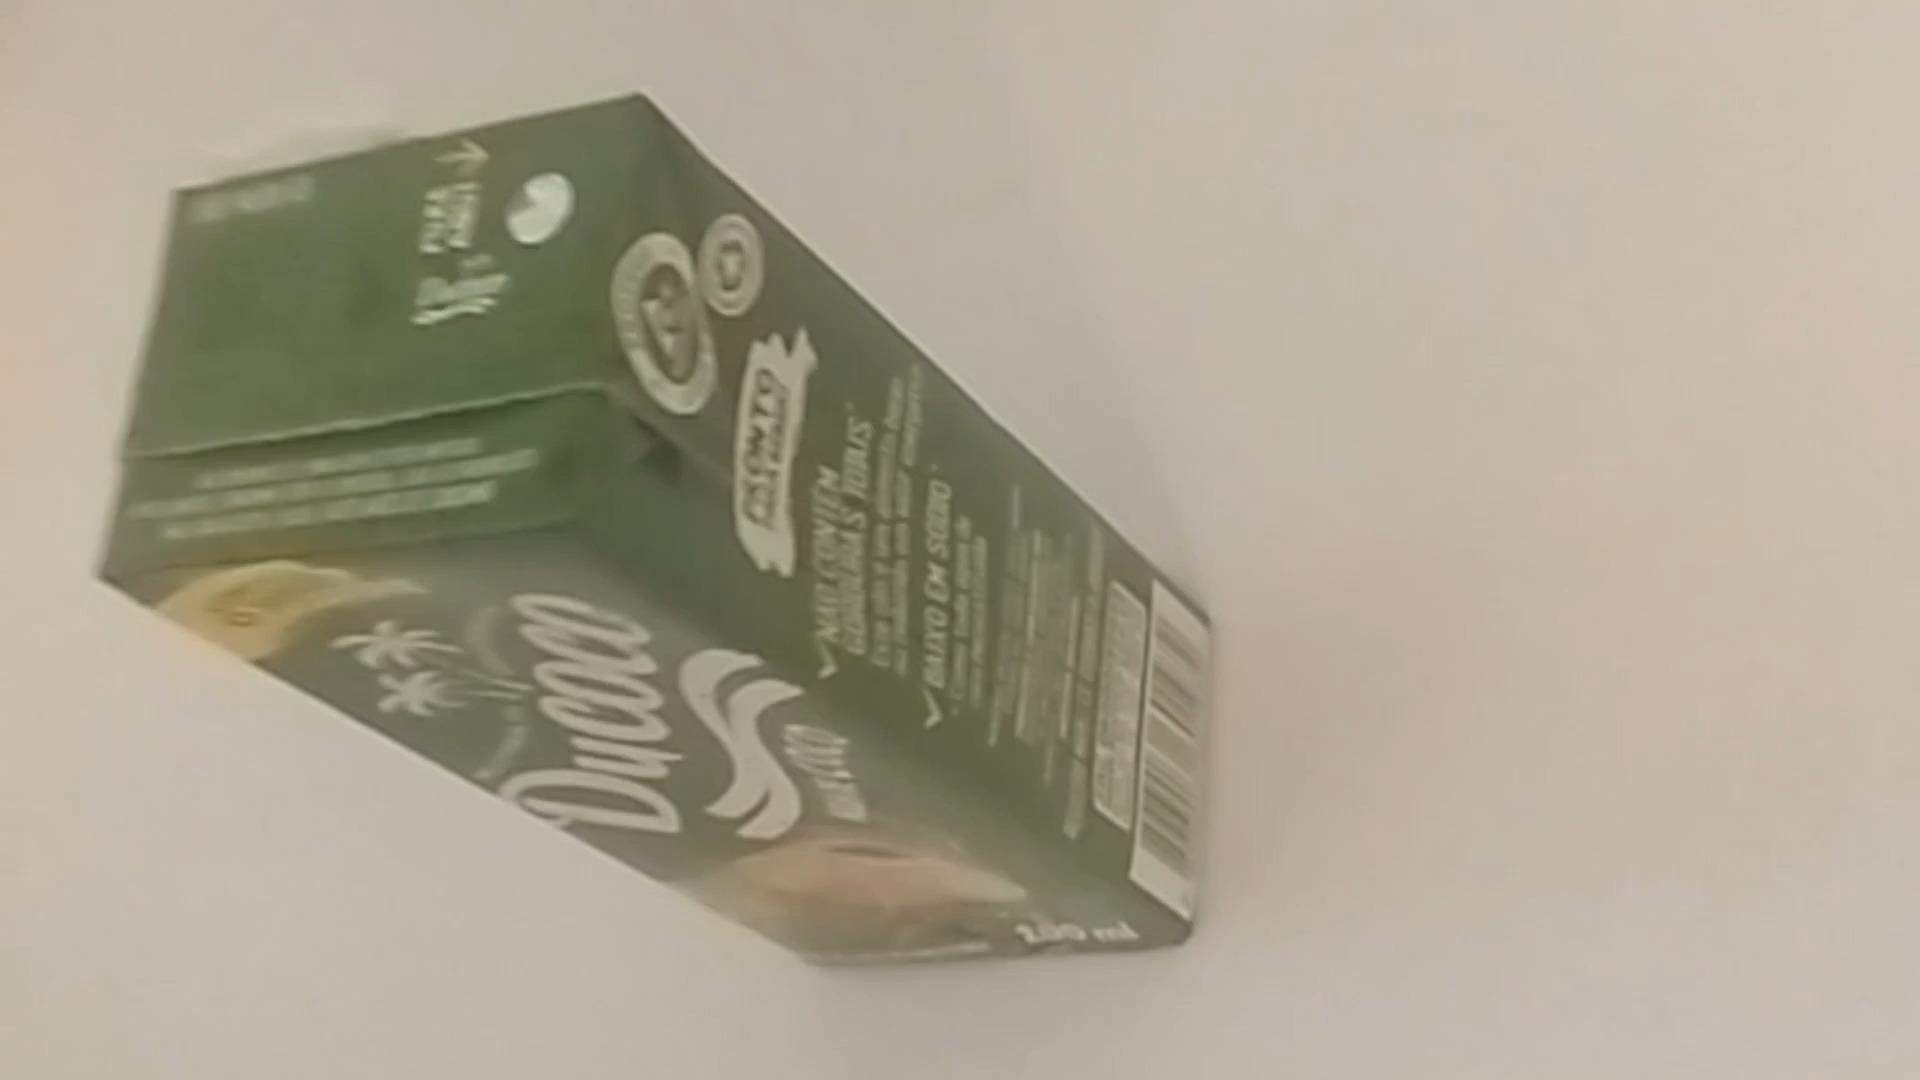coco: (105, 96, 1200, 978)
